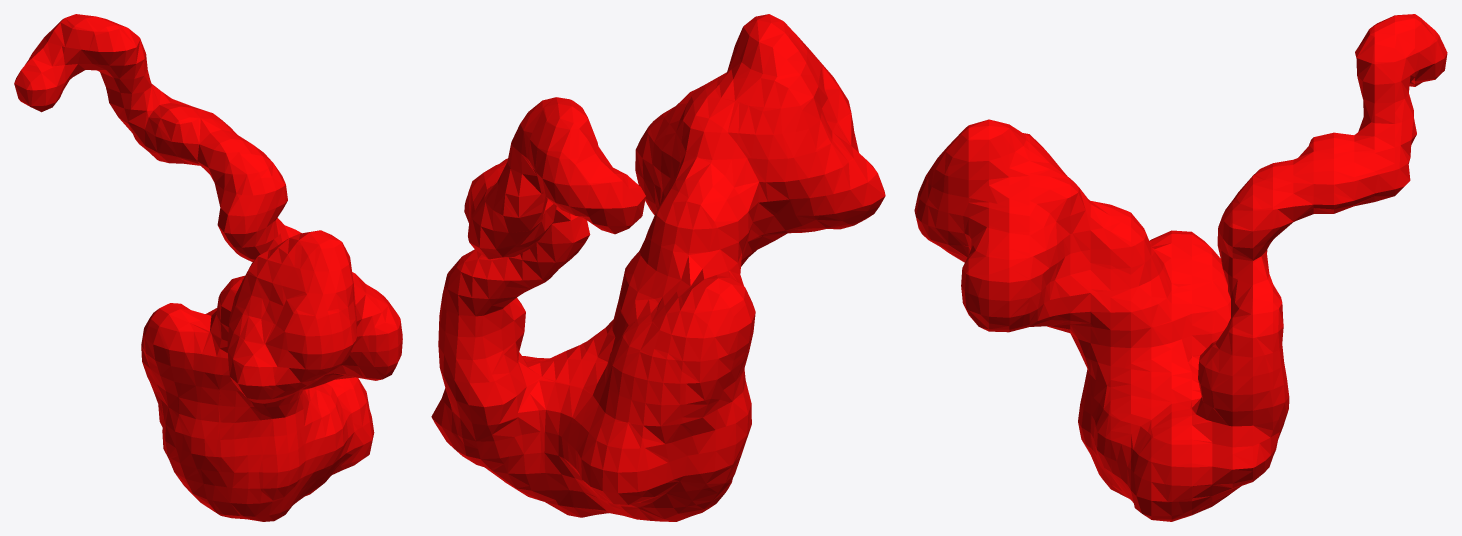
Rendered from slyD_coarse.dae.
3 views of the same model, side by side, from view 1: azimuth 30°, elevation 25°; view 2: azimuth 150°, elevation 25°; view 3: azimuth 270°, elevation 25° (orthographic). The views are drawn at different scales.
Visible parts, largest first — view 1: slyD; view 2: slyD; view 3: slyD.
Part boxes in pixels (box(x1,y1,x2,y2)): slyD: box(14, 14, 402, 521); slyD: box(431, 14, 885, 521); slyD: box(914, 14, 1447, 521).
Bounding box in the file's own units: 46.67 × 77.69 × 83.36.
